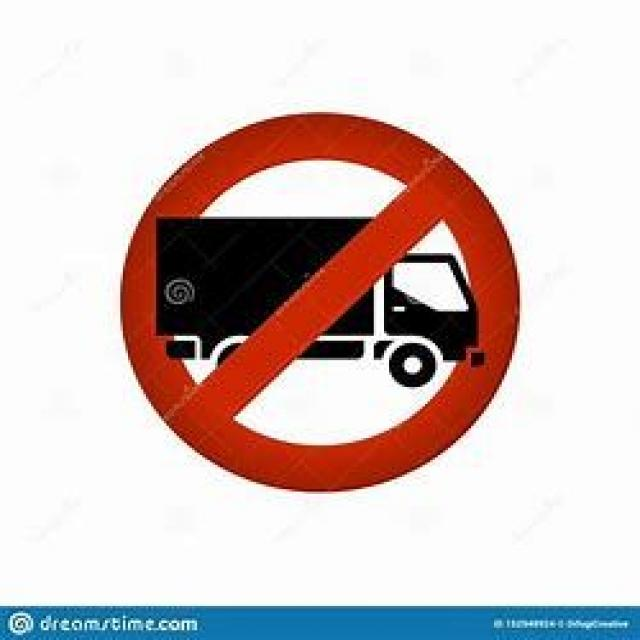TRUCK_PROHIBITED: (115, 104, 520, 492)
